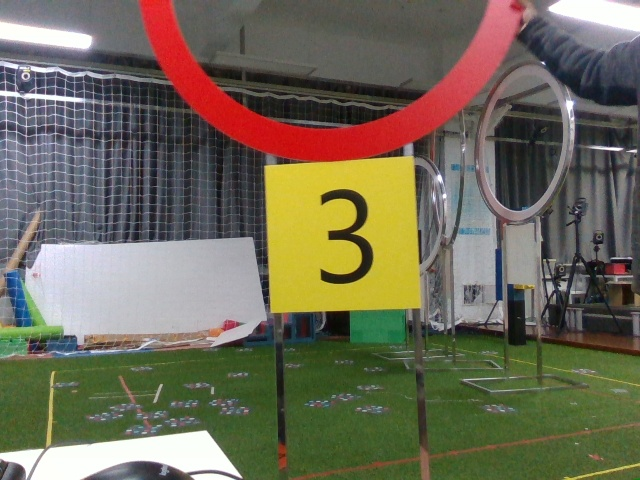target: (262, 163, 421, 310)
